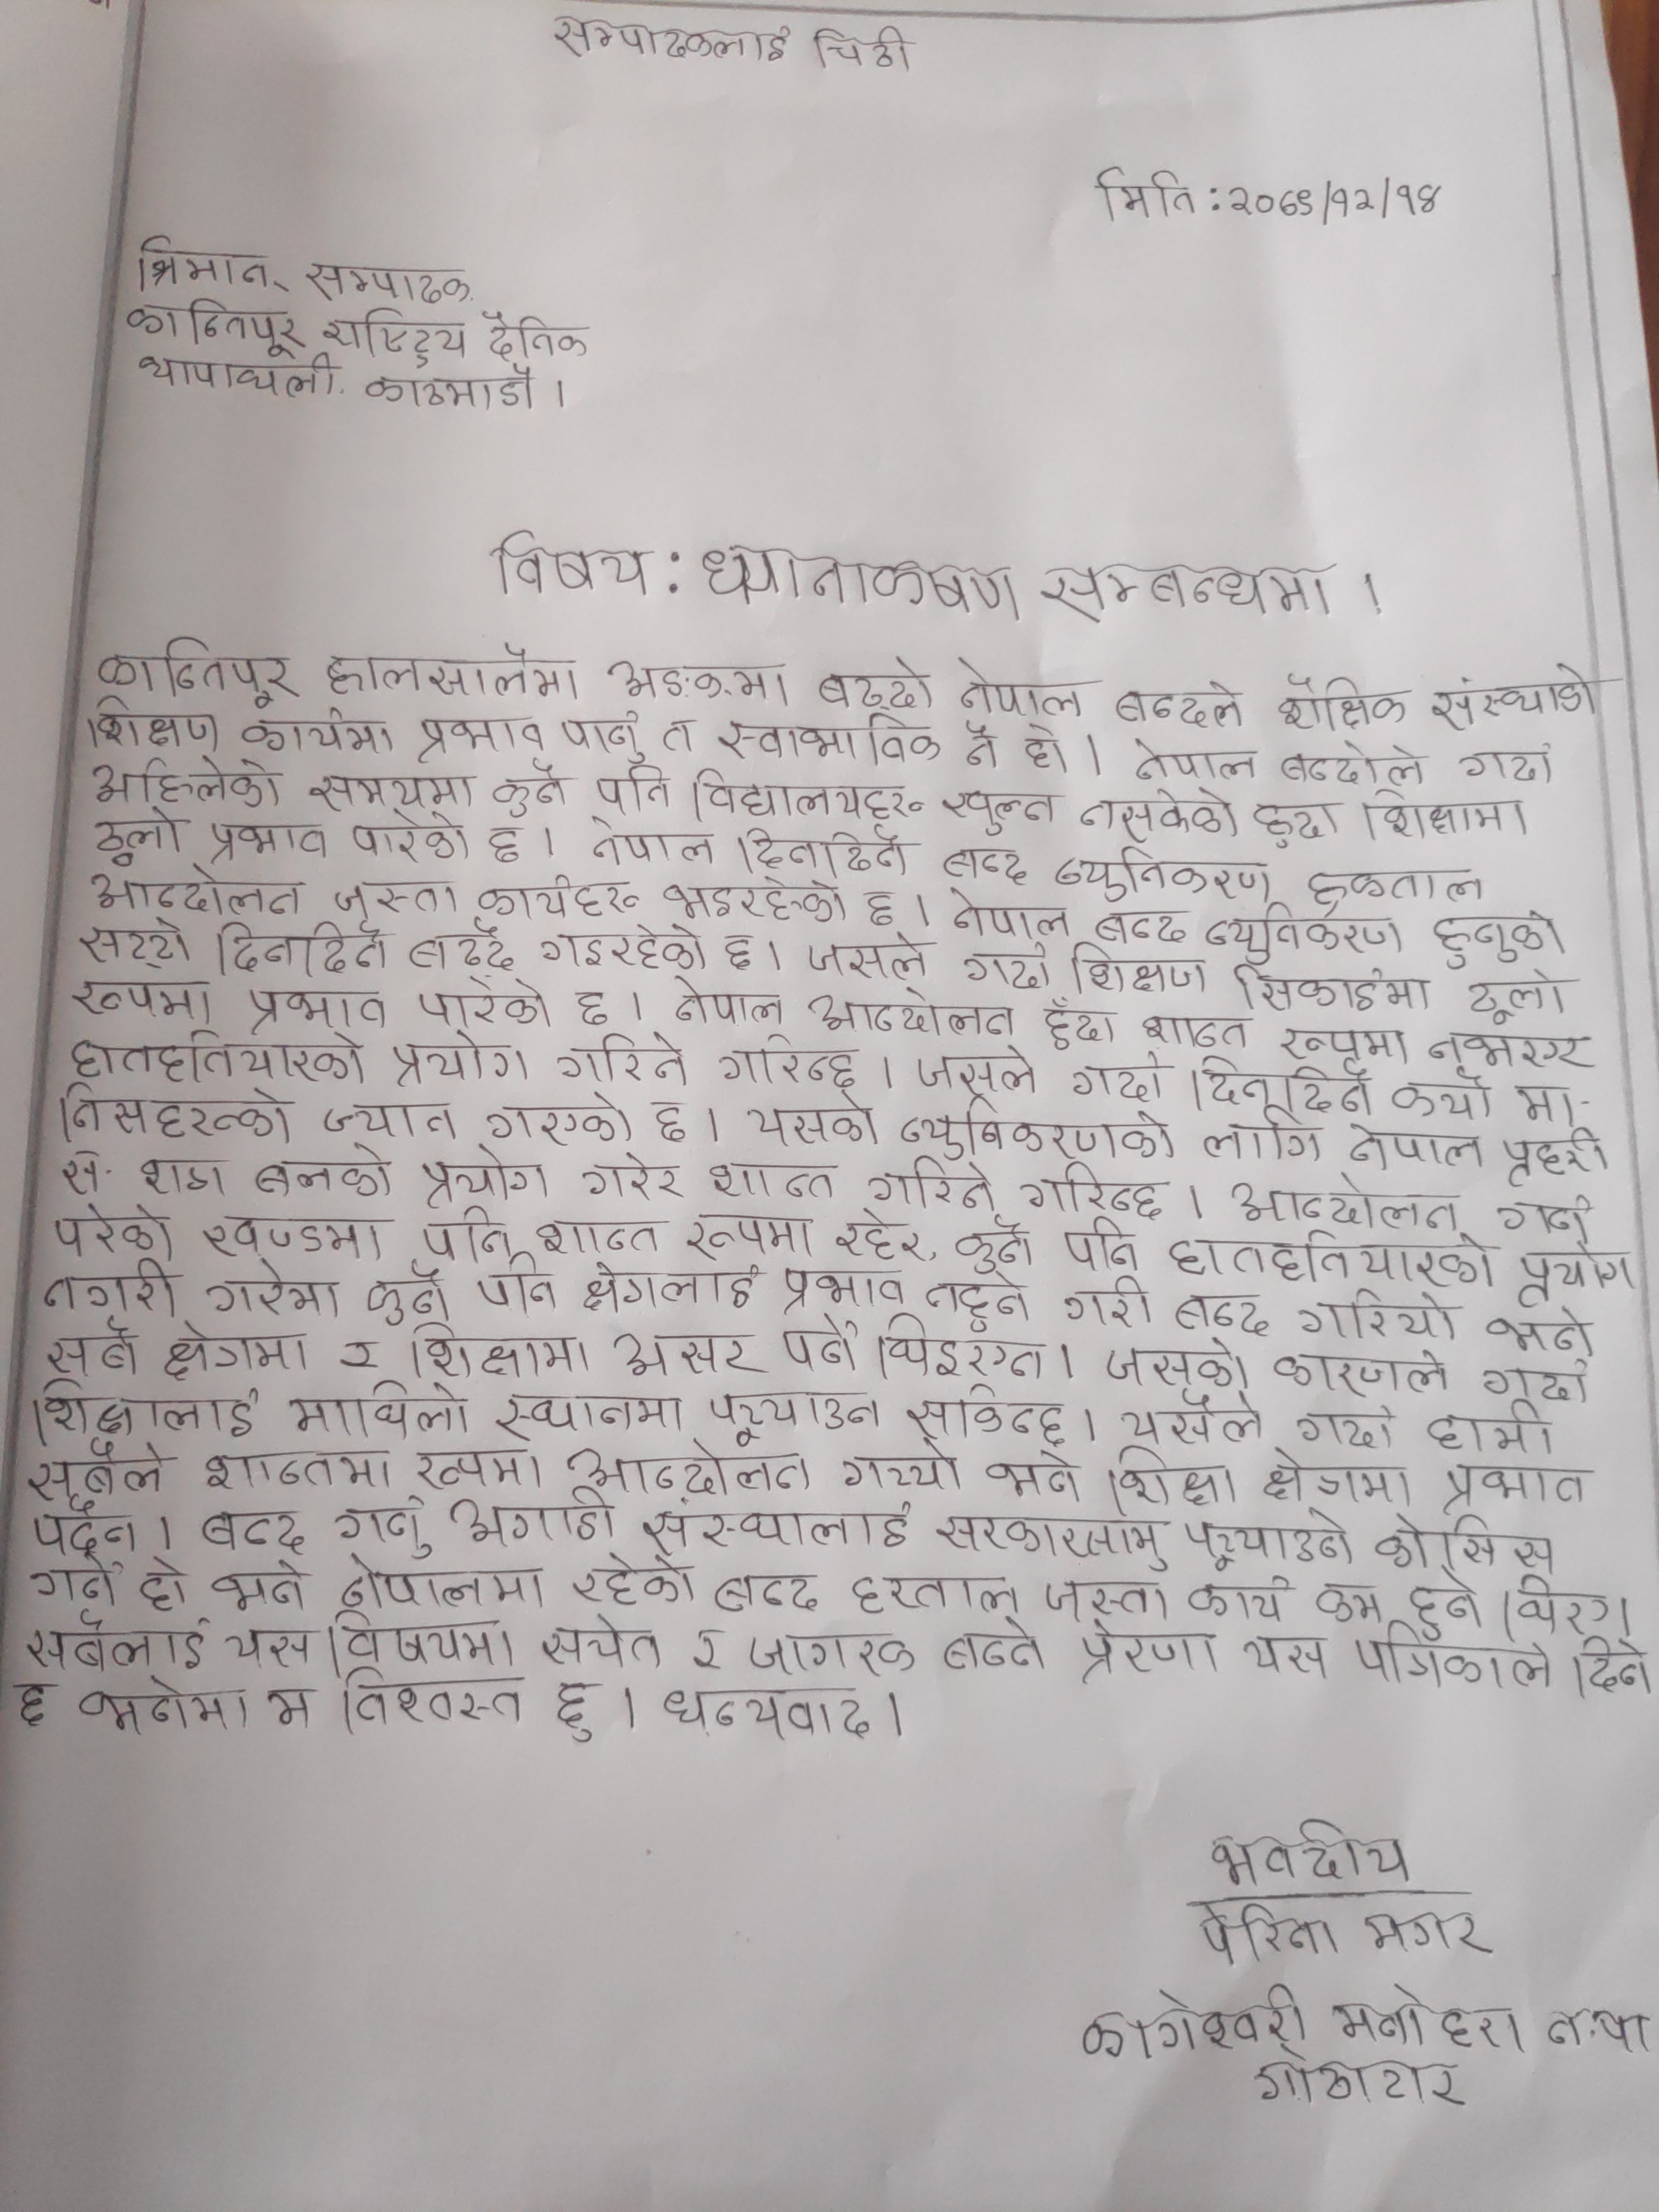text: (697, 540, 1026, 629), (894, 1089, 1185, 1165), (1037, 559, 1344, 625), (1075, 1982, 1317, 2059), (1164, 1230, 1497, 1285), (63, 1031, 371, 1089), (49, 1080, 298, 1150), (92, 631, 296, 711), (1204, 1813, 1419, 1888), (683, 761, 929, 826), (1230, 1170, 1462, 1238), (1351, 1620, 1558, 1695), (549, 7, 795, 70), (636, 1498, 920, 1552), (559, 1439, 814, 1498), (938, 1512, 1175, 1575), (30, 1378, 261, 1440), (655, 1677, 875, 1743), (1330, 1984, 1534, 2054), (335, 1667, 530, 1738), (488, 524, 653, 608), (1249, 2050, 1469, 2113), (321, 646, 584, 697), (1056, 848, 1274, 909), (716, 711, 948, 766), (336, 1552, 554, 1611), (805, 981, 1018, 1040), (1180, 1052, 1378, 1115), (125, 294, 308, 362), (211, 914, 403, 979), (326, 1609, 516, 1672), (1373, 1512, 1560, 1575), (1425, 664, 1600, 730), (1202, 907, 1405, 963), (1227, 960, 1429, 1015), (875, 1317, 1049, 1381), (1223, 178, 1453, 226), (195, 1442, 396, 1498), (136, 345, 342, 399), (657, 871, 849, 928), (85, 756, 289, 810), (570, 1258, 760, 1315), (1182, 1512, 1358, 1573), (1072, 1620, 1229, 1688), (1359, 784, 1539, 843), (706, 1386, 885, 1446), (71, 1677, 251, 1737), (903, 1385, 1072, 1447), (289, 1381, 472, 1439), (23, 1615, 206, 1672), (251, 1139, 403, 1207), (401, 1325, 591, 1379), (1269, 1345, 1459, 1399), (610, 651, 793, 707), (301, 253, 477, 310), (727, 822, 906, 878), (85, 874, 305, 920), (714, 1028, 868, 1092), (1079, 786, 1241, 846), (319, 303, 476, 366), (199, 1212, 385, 1264), (24, 1440, 179, 1503), (850, 1568, 1025, 1623), (359, 359, 538, 413), (495, 1390, 687, 1440), (1114, 1388, 1269, 1449), (953, 653, 1094, 719), (1516, 1237, 1643, 1310), (1014, 1163, 1175, 1221), (481, 1089, 640, 1146), (1300, 862, 1493, 909), (1101, 1449, 1243, 1514), (477, 869, 640, 925), (1291, 1289, 1460, 1341), (538, 928, 711, 979), (1100, 1334, 1251, 1392), (446, 1491, 619, 1541), (415, 1141, 552, 1204), (35, 1261, 183, 1318), (1431, 907, 1570, 968), (234, 705, 396, 758), (132, 235, 275, 294), (1262, 1449, 1413, 1505), (748, 1089, 885, 1150), (1274, 671, 1413, 730), (542, 1609, 669, 1674), (1194, 1907, 1344, 1961), (390, 1031, 530, 1089), (1349, 1120, 1488, 1177), (1425, 1026, 1601, 1071), (741, 1632, 924, 1676), (1495, 1573, 1612, 1641), (66, 970, 218, 1022), (153, 1329, 315, 1378), (202, 1266, 342, 1322), (84, 697, 221, 752), (200, 810, 329, 869), (307, 766, 474, 812), (558, 1035, 694, 1090), (1438, 1456, 1593, 1505), (1419, 1400, 1563, 1453), (406, 1439, 551, 1491), (580, 815, 720, 869), (413, 979, 552, 1033), (606, 1329, 760, 1378), (568, 1554, 701, 1609), (666, 970, 789, 1029), (1065, 949, 1209, 1000), (343, 805, 474, 860), (795, 932, 934, 984), (1127, 733, 1262, 787), (945, 885, 1073, 941), (864, 1158, 997, 1212), (326, 1498, 439, 1561), (918, 1268, 1028, 1332), (1274, 742, 1424, 789), (812, 653, 934, 711), (805, 17, 917, 80), (1354, 1905, 1492, 1956), (1495, 1130, 1612, 1190), (674, 1209, 810, 1259), (242, 986, 387, 1033), (1480, 1303, 1601, 1359), (404, 920, 518, 979), (314, 1099, 460, 1144), (413, 1205, 521, 1266), (1107, 681, 1246, 728), (75, 920, 202, 970), (52, 1207, 179, 1258), (410, 707, 551, 752), (833, 1444, 969, 1491), (983, 1444, 1087, 1505), (1089, 165, 1202, 221), (770, 1268, 910, 1313), (1197, 1115, 1326, 1163), (941, 1620, 1053, 1676), (24, 1501, 139, 1555), (1563, 1635, 1659, 1700), (939, 787, 1061, 838), (331, 880, 462, 927), (477, 307, 591, 361), (1040, 1578, 1169, 1625), (1539, 2006, 1647, 2062), (1453, 737, 1563, 791), (1392, 1071, 1502, 1125), (911, 1050, 1047, 1094), (361, 1266, 453, 1329), (91, 810, 188, 869), (1466, 970, 1572, 1024), (1293, 1399, 1399, 1453), (577, 1153, 687, 1205), (1166, 1285, 1276, 1338), (209, 1561, 314, 1615), (44, 1322, 145, 1378), (709, 1569, 828, 1616), (197, 1507, 307, 1557), (535, 1217, 667, 1259), (775, 1312, 861, 1376), (1495, 1193, 1600, 1245), (706, 1162, 842, 1202), (1279, 1028, 1413, 1068), (1183, 1573, 1293, 1622), (559, 711, 657, 765), (1408, 1573, 1483, 1642), (1032, 1003, 1124, 1059), (835, 1212, 924, 1270), (1058, 1275, 1152, 1329), (953, 1217, 1039, 1277), (26, 1557, 122, 1609), (1070, 1057, 1176, 1104), (1483, 1359, 1593, 1404), (964, 937, 1053, 993), (491, 759, 570, 820), (1239, 1635, 1333, 1686), (1058, 1219, 1140, 1277), (477, 1263, 565, 1317), (1251, 799, 1344, 850), (939, 840, 1030, 890), (1094, 904, 1194, 949), (1138, 1010, 1249, 1050), (228, 1627, 314, 1676), (594, 761, 676, 812), (132, 1548, 195, 1613), (1011, 716, 1073, 777), (551, 1677, 603, 1747), (139, 1158, 230, 1198), (1513, 1083, 1582, 1132), (1314, 1578, 1384, 1627), (260, 1679, 315, 1737), (955, 719, 1002, 773), (643, 1101, 697, 1148), (58, 1150, 112, 1197), (659, 711, 704, 761), (479, 819, 528, 864), (680, 1629, 730, 1670), (718, 928, 758, 979), (572, 989, 617, 1033), (12, 1679, 52, 1728), (333, 1338, 382, 1372), (864, 885, 896, 925)
